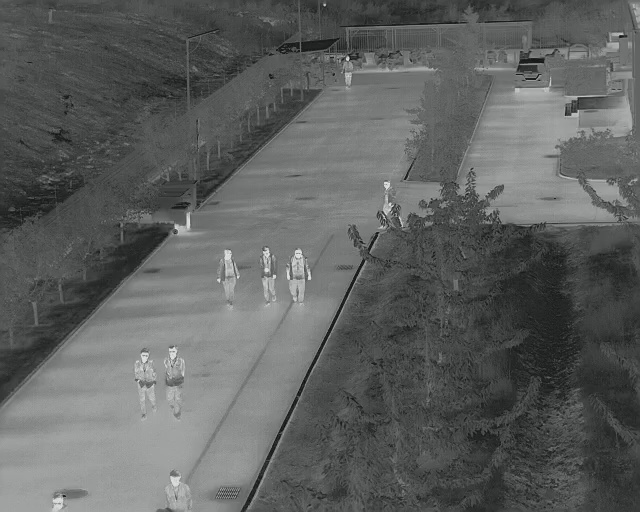person: (130, 345, 159, 421), (161, 342, 185, 423), (214, 246, 242, 313), (285, 247, 312, 308), (160, 466, 194, 512), (258, 245, 279, 309), (377, 177, 399, 213), (340, 53, 354, 93)
vehicle: (510, 56, 555, 98)
